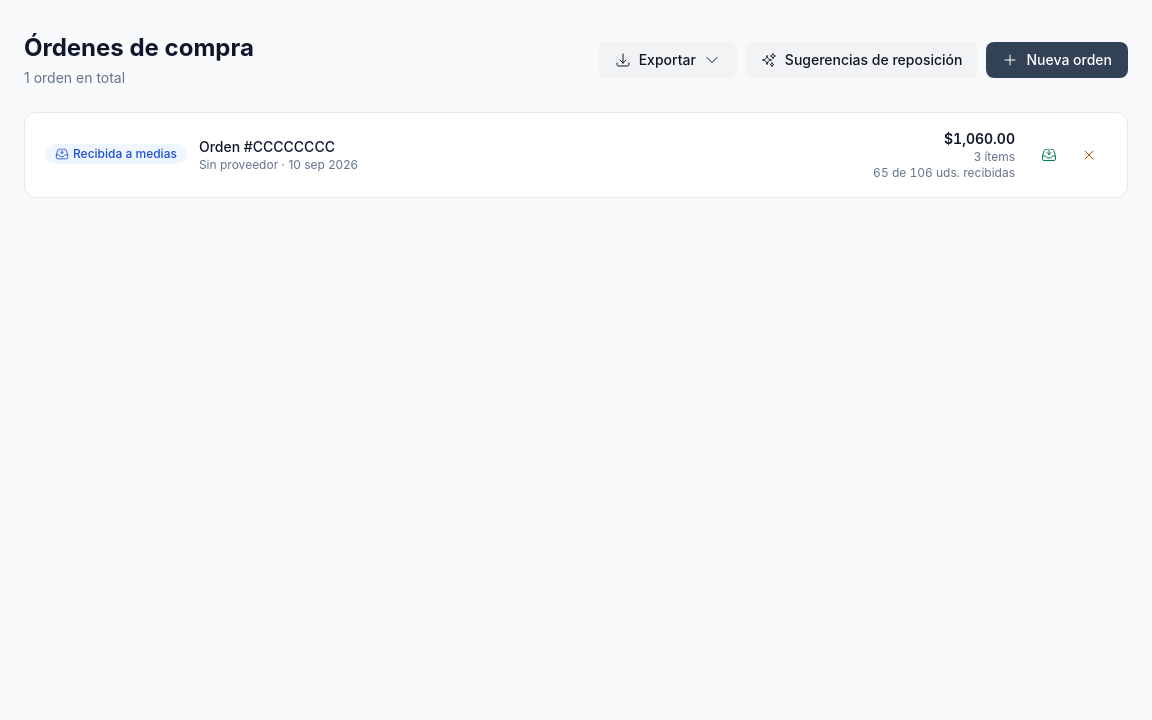
Test: PurchaseOrdersPage — recepción parcial (T5-04) › El diálogo de recepción › confirmar sin tocar nada recibe todo lo que falta
Step 1. Click the button named "Recibir mercancía de la orden #CCCCCCCC" → (1049, 155), box [1031,137,1067,173]
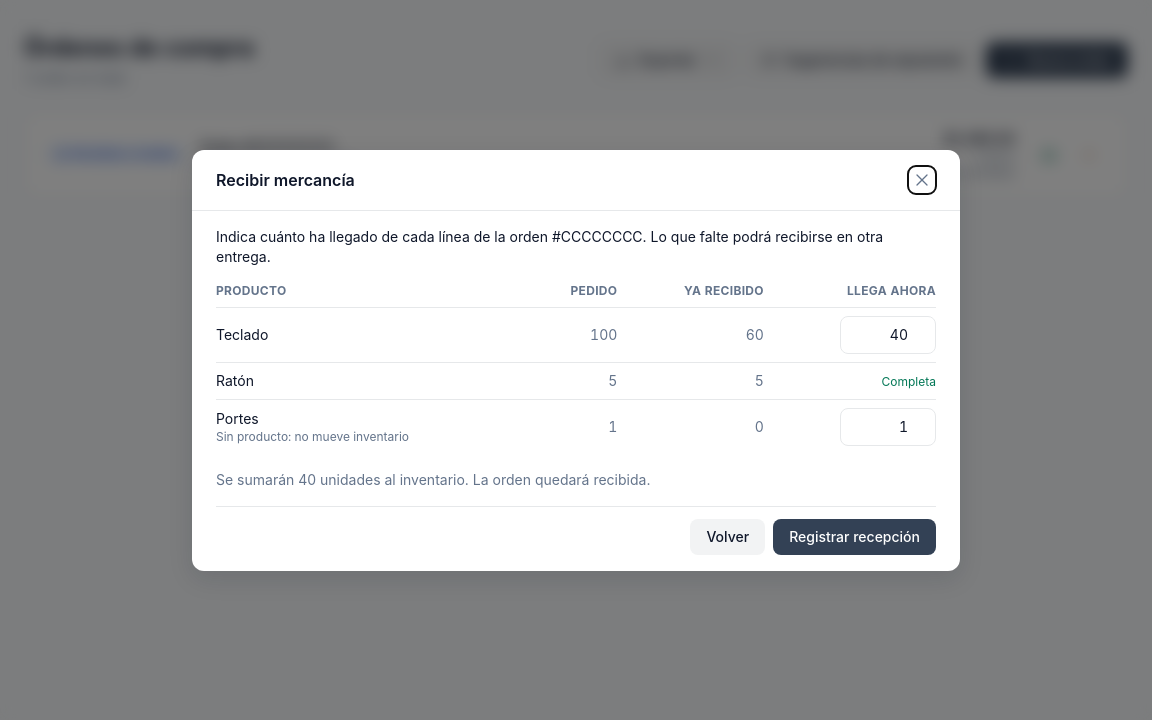
Step 2. Click the button "Registrar recepción" → (855, 536), box [773,518,936,554]
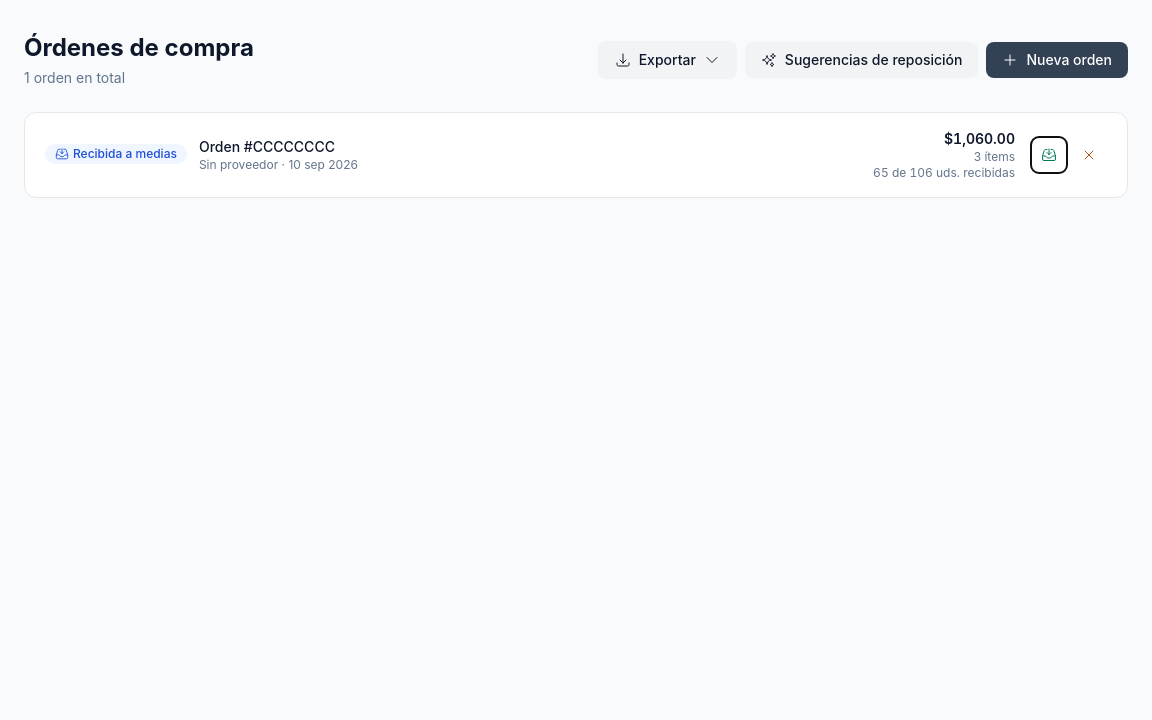
Check: the dialog is gone
